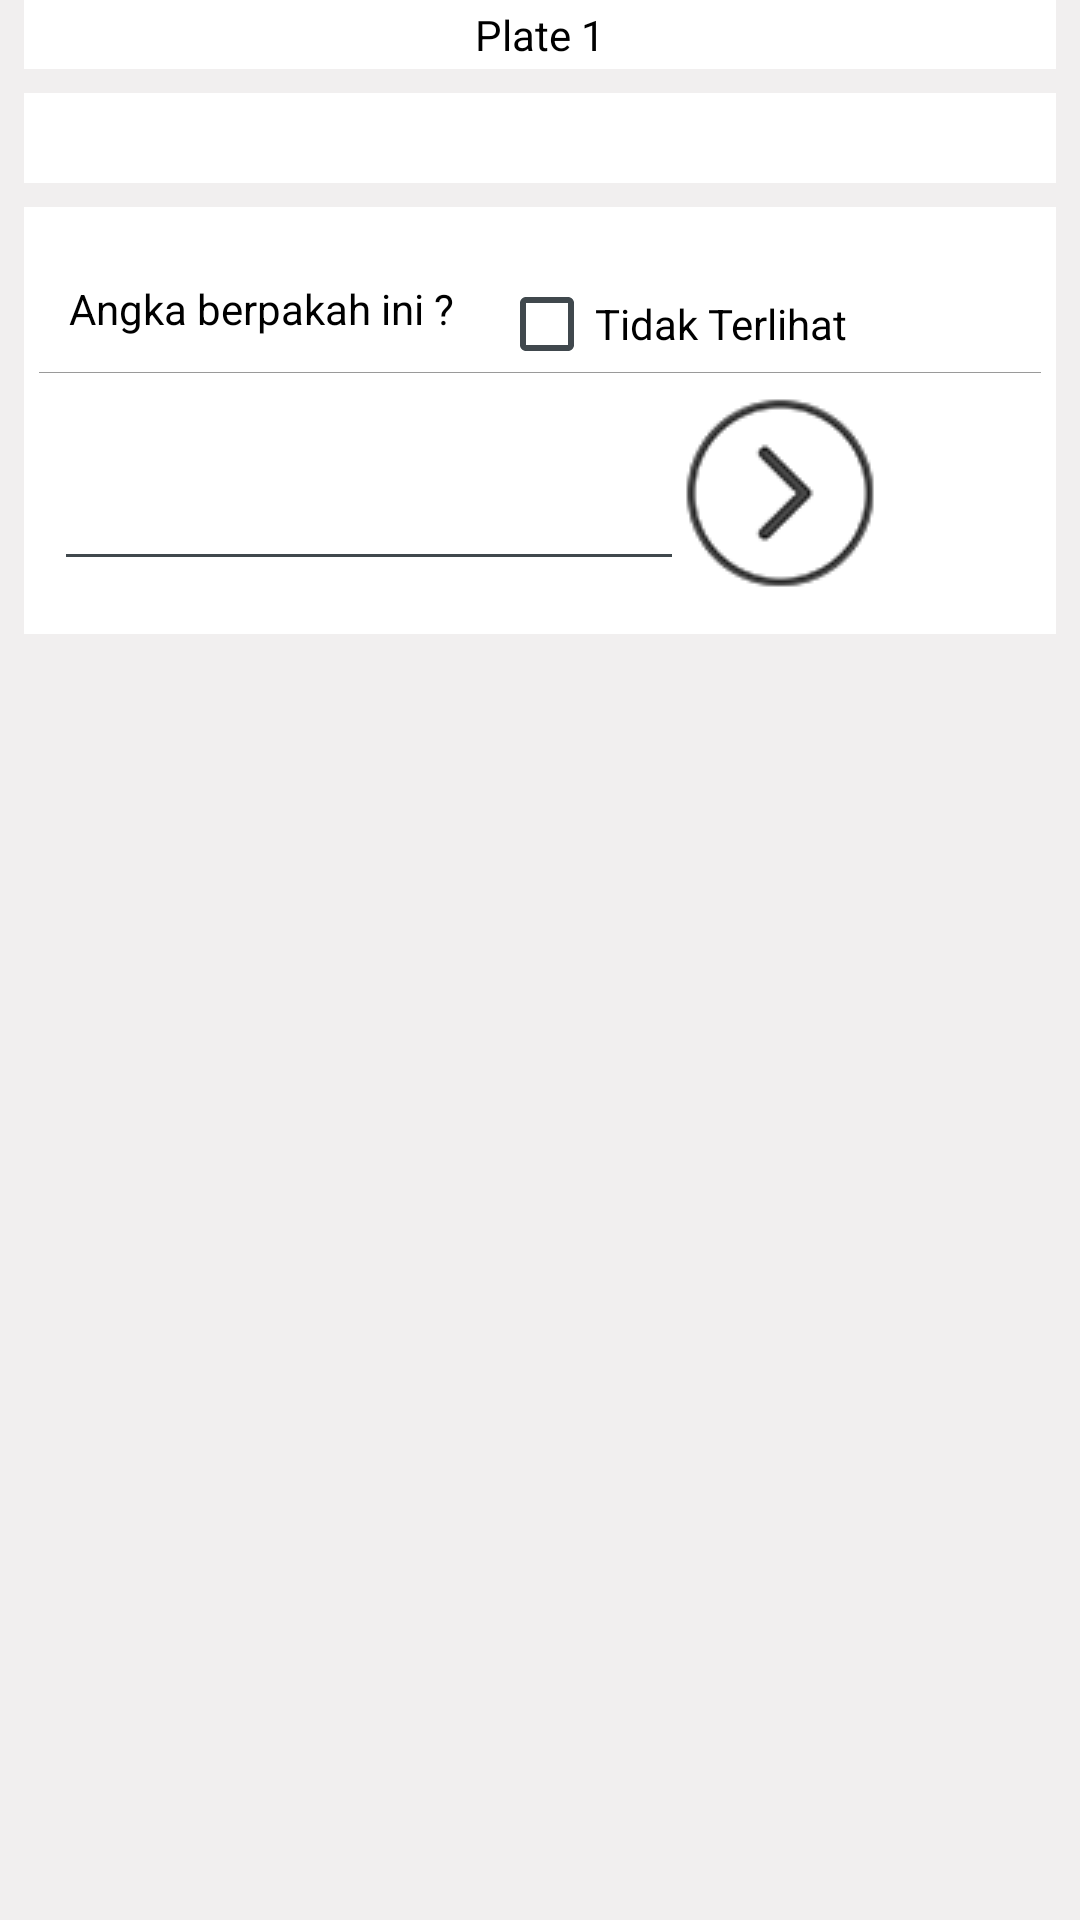

Screen size 1080 × 1920. Icon name, then its box in pixels as BBox(x1, y1, x2, y2):
next service: BBox(686, 399, 874, 587)
